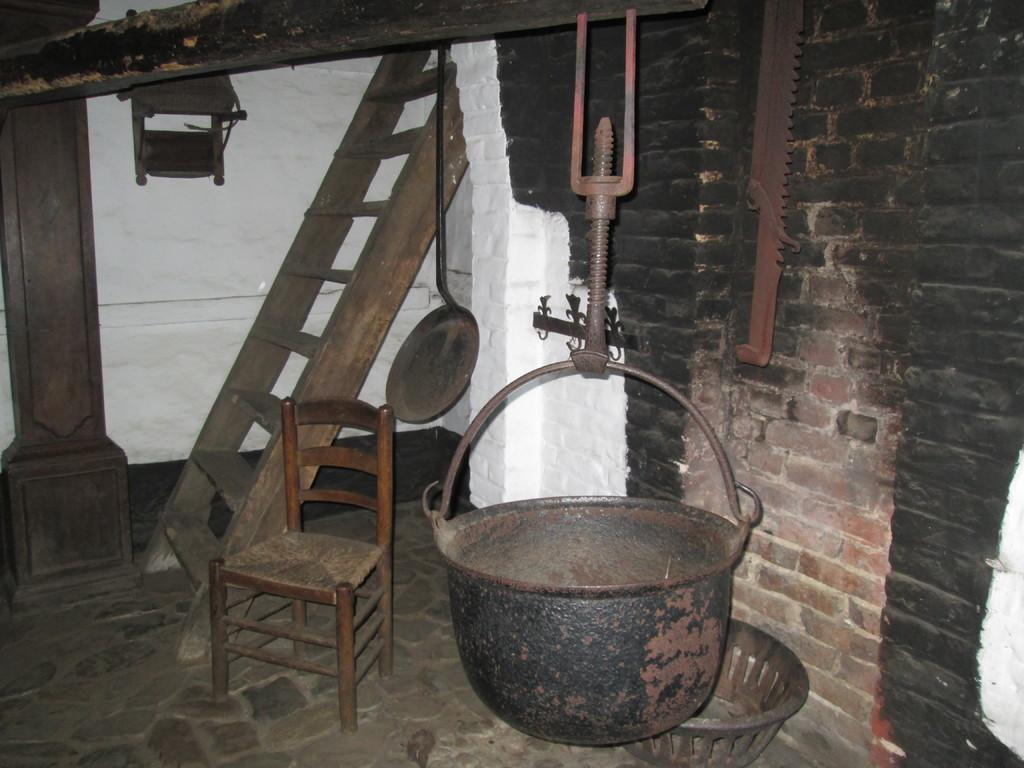Chair: (172, 393, 415, 737)
